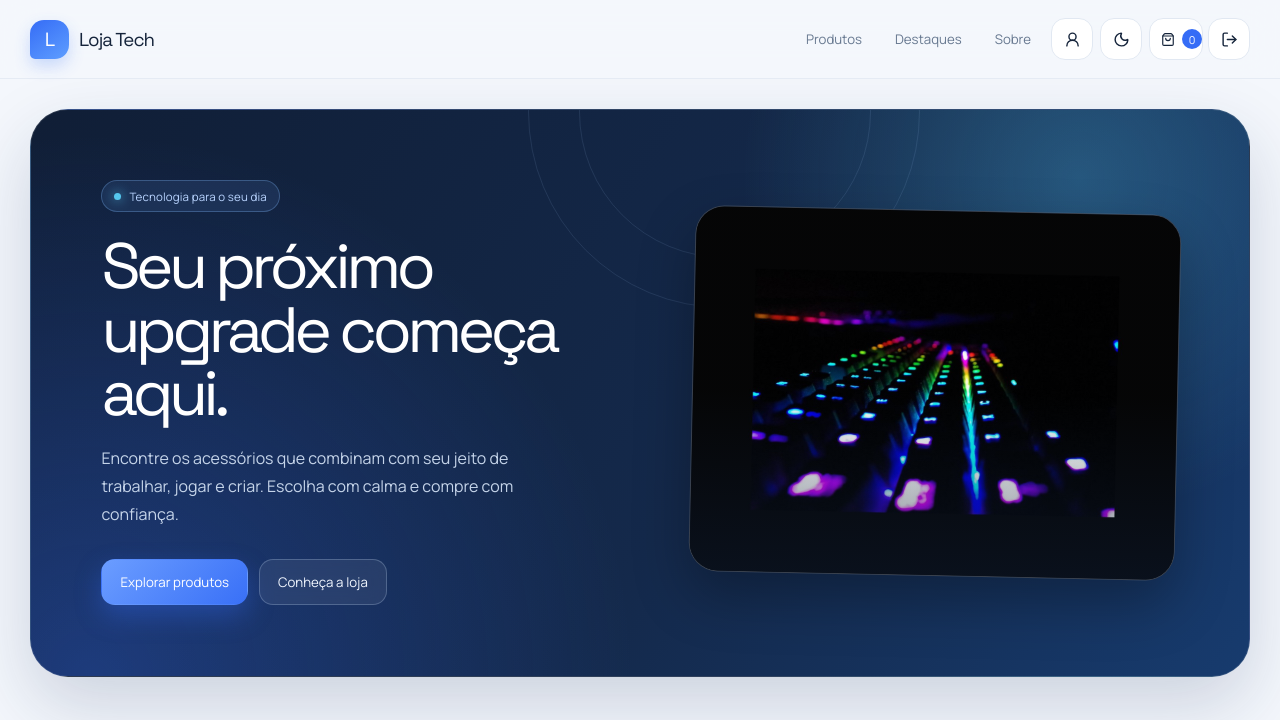
Test: logout › encerra a sessão e redireciona para a tela de login ao confirmar
Step 1. Click the button named "Sair da conta" → (1229, 39), box [1208,18,1250,60]
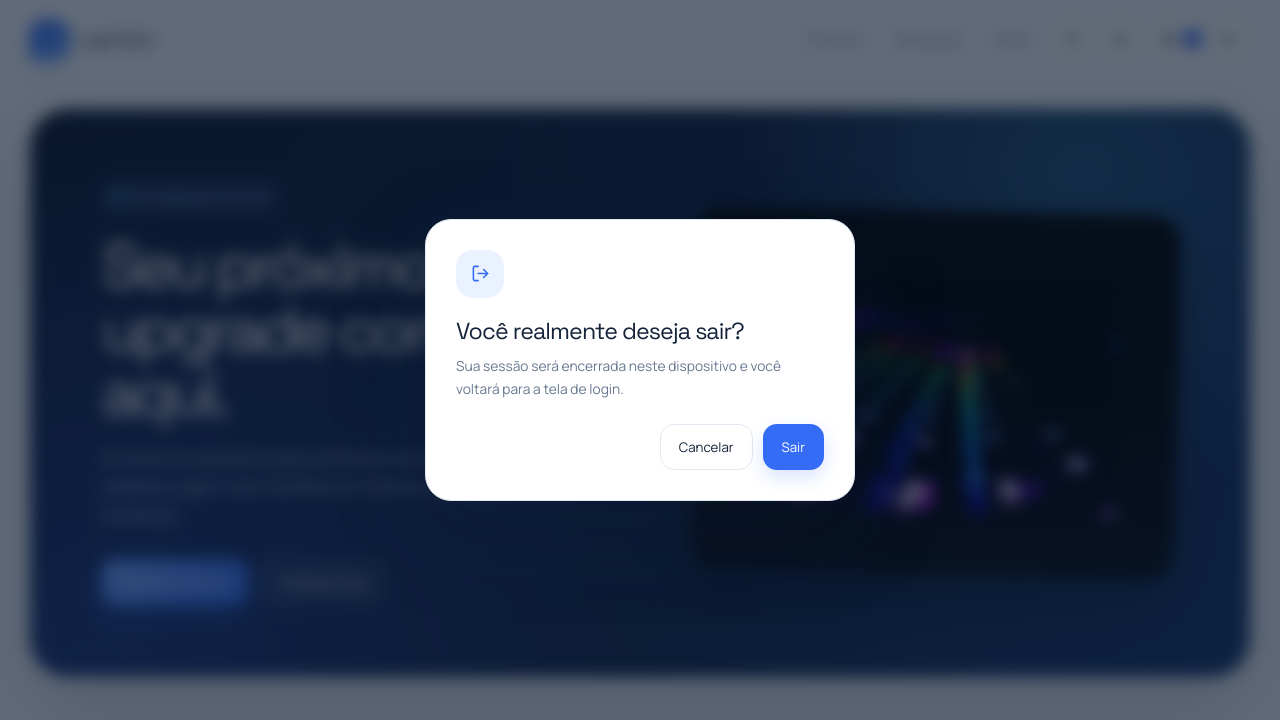
Step 2. Click the button "Sair" → (793, 447), box [763,424,824,470]
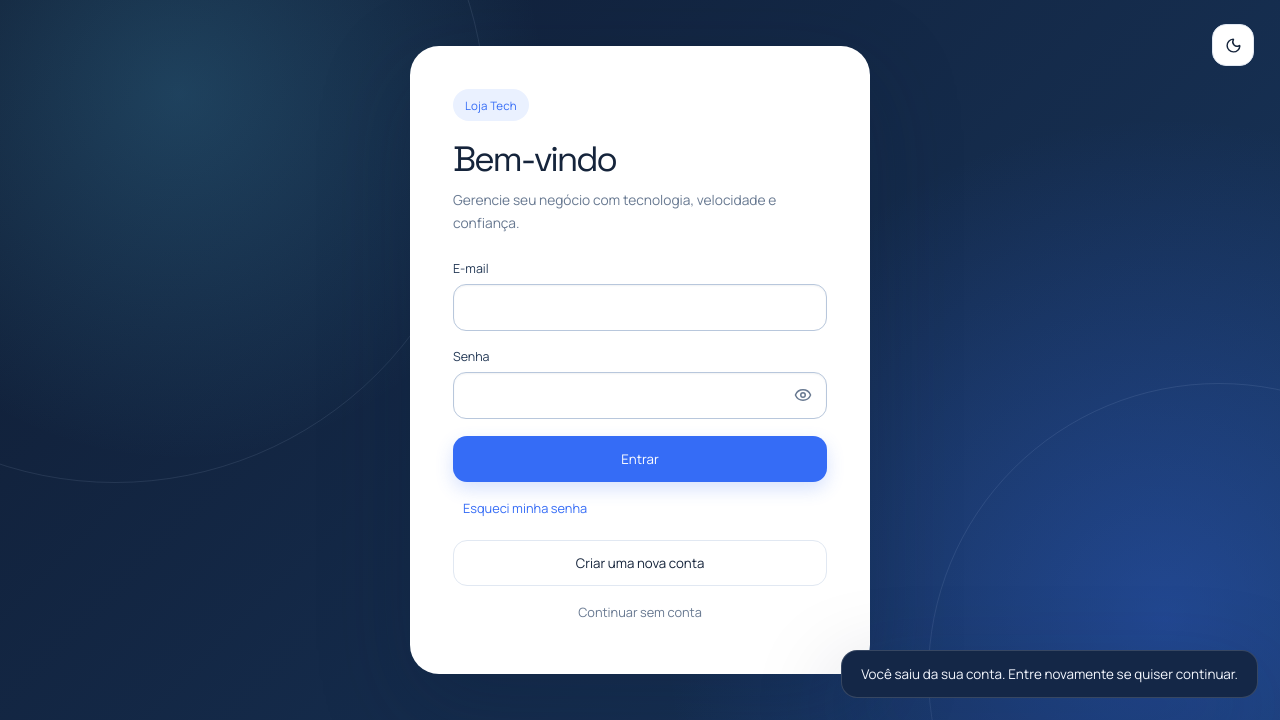
Now the button "Entrar" is shown, box [453,436,827,482]
Now the text "Você saiu da sua conta. Entre novamente se quiser continuar." is shown, box [841,650,1258,698]
